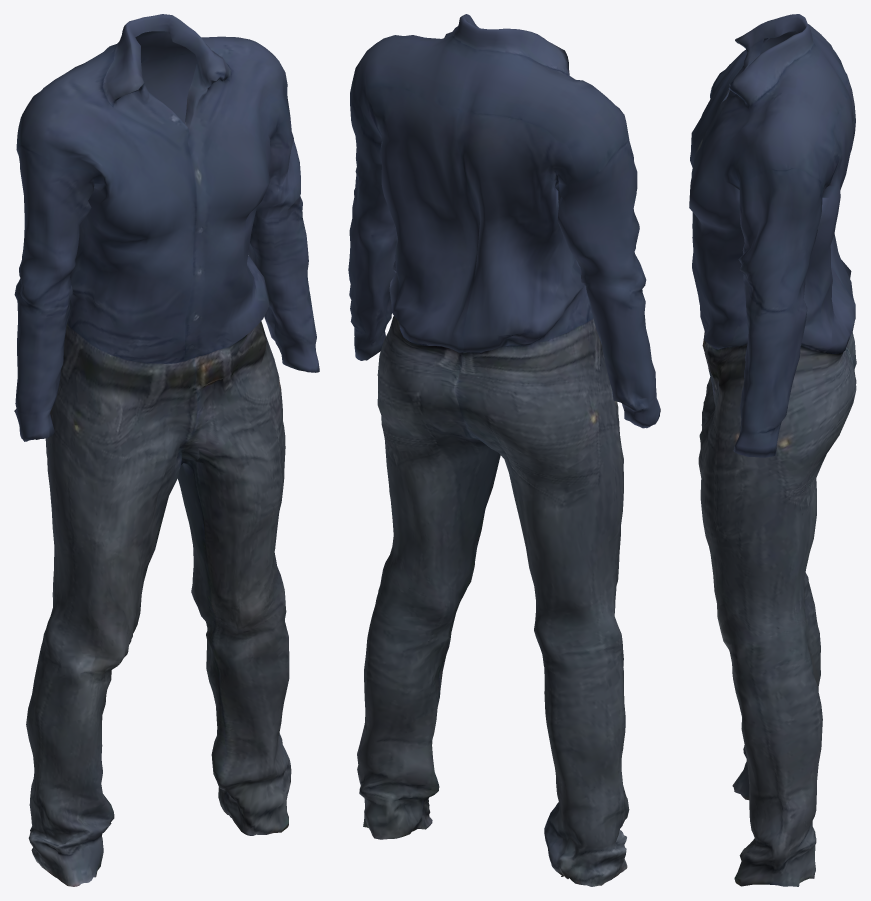
The model's file is male-casualsuit01.glb.
The picture shows the model from 3 angles, left to right: view 1: azimuth 30°, elevation 25°; view 2: azimuth 150°, elevation 25°; view 3: azimuth 270°, elevation 25°; orthographic projection. The views are drawn at different scales.
Visible parts, largest first — view 1: Human.male_casualsuit01; view 2: Human.male_casualsuit01; view 3: Human.male_casualsuit01.
Boxes of the visible parts, x1,y1,x2,y2 form: Human.male_casualsuit01: (14,14,319,886); Human.male_casualsuit01: (348,14,660,886); Human.male_casualsuit01: (689,14,856,886).
Size of the model in its own units: 0.5169 by 1.38 by 0.258.
Materials: 1 (1 with a texture image).
